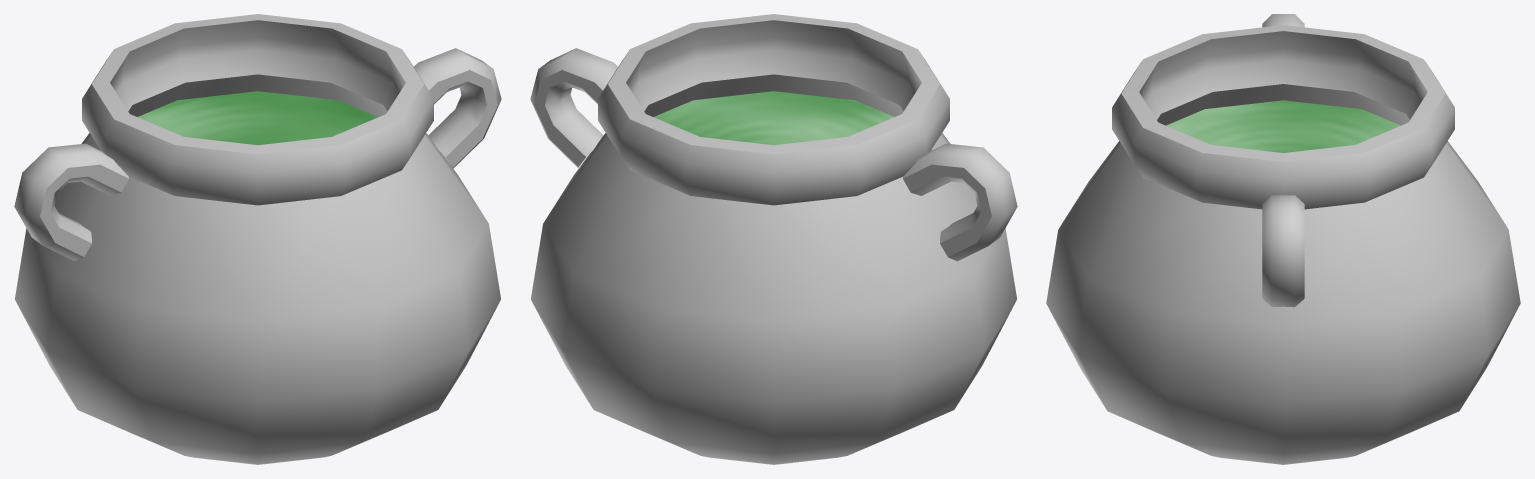
Rendered from PROP_witch_pot.fbx.
3 renders of one model, left to right at view 1: azimuth 30°, elevation 25°; view 2: azimuth 150°, elevation 25°; view 3: azimuth 270°, elevation 25°, orthographic. The views are drawn at different scales.
Visible parts, largest first — view 1: witch_pot; view 2: witch_pot; view 3: witch_pot.
Boxes of the visible parts, x1,y1,x2,y2 form: witch_pot: (14, 14, 501, 464); witch_pot: (530, 14, 1017, 464); witch_pot: (1046, 14, 1520, 464).
Bounding box in the file's own units: 51.67 × 45.77 × 34.08.
